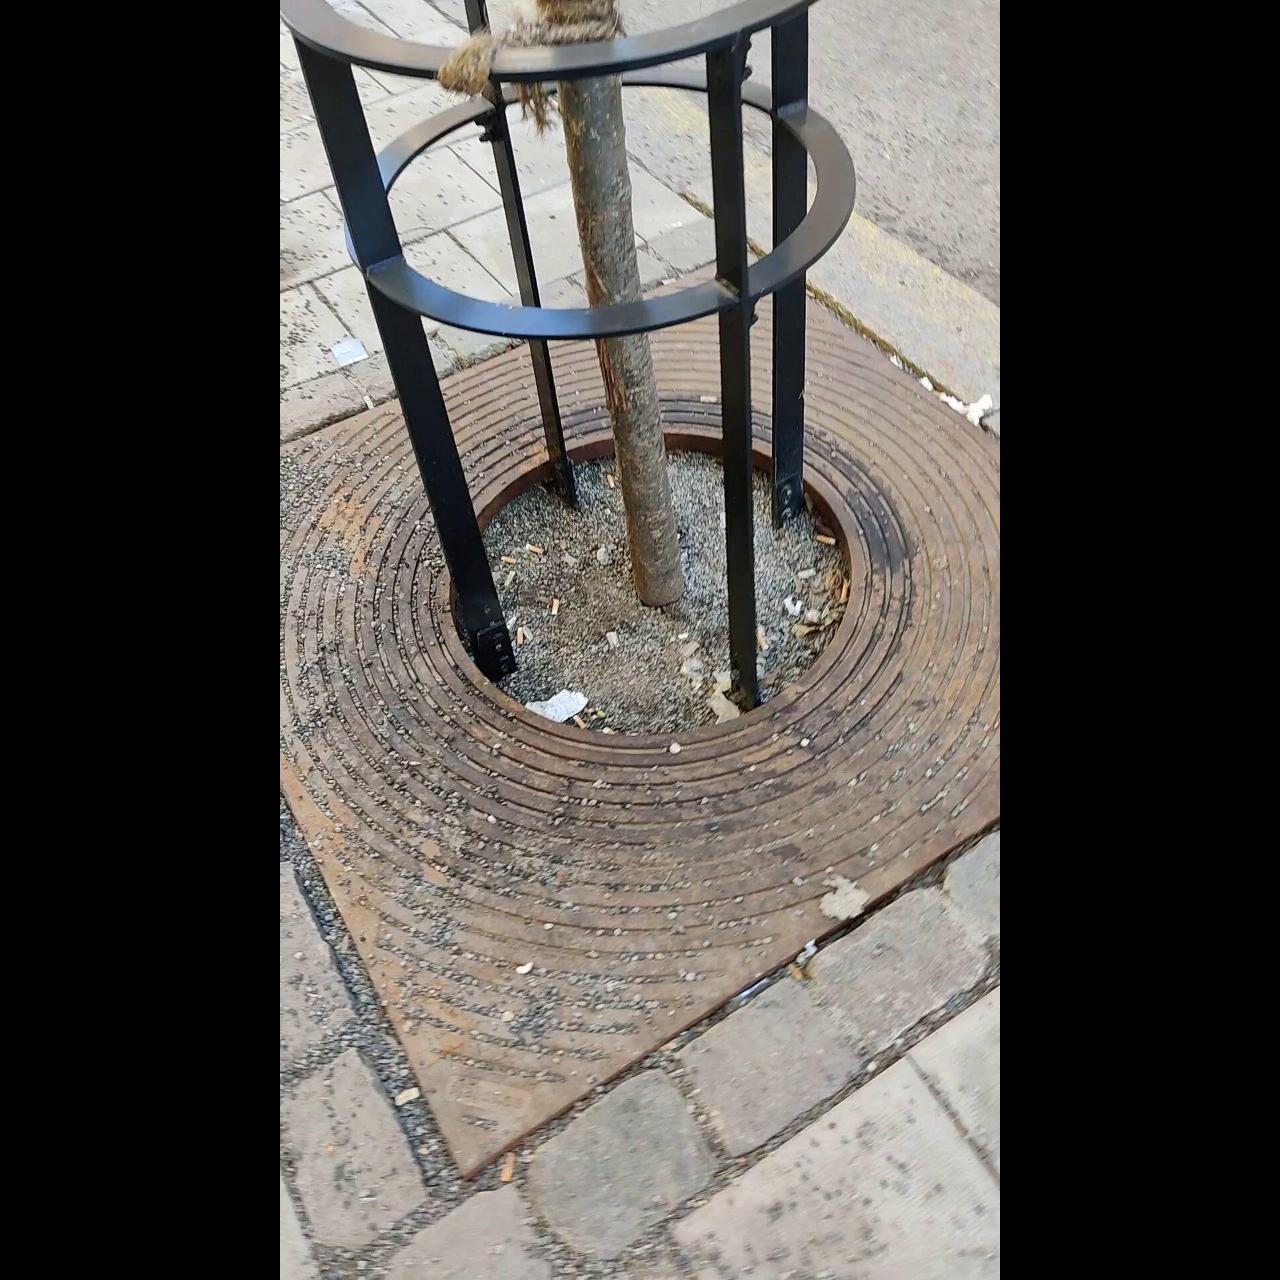cigarettes_butts: (499, 1151, 515, 1186), (755, 632, 767, 654), (549, 597, 560, 615), (516, 625, 524, 649), (819, 537, 839, 545), (572, 713, 581, 729), (526, 544, 544, 552), (608, 471, 617, 486), (504, 554, 518, 561)
others: (394, 1087, 422, 1109), (606, 629, 618, 647)
